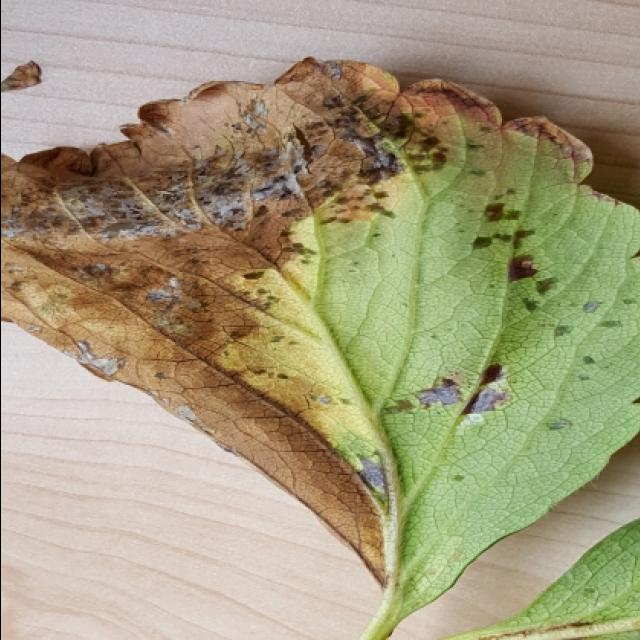Angular Leafspot: (2, 53, 640, 622)
